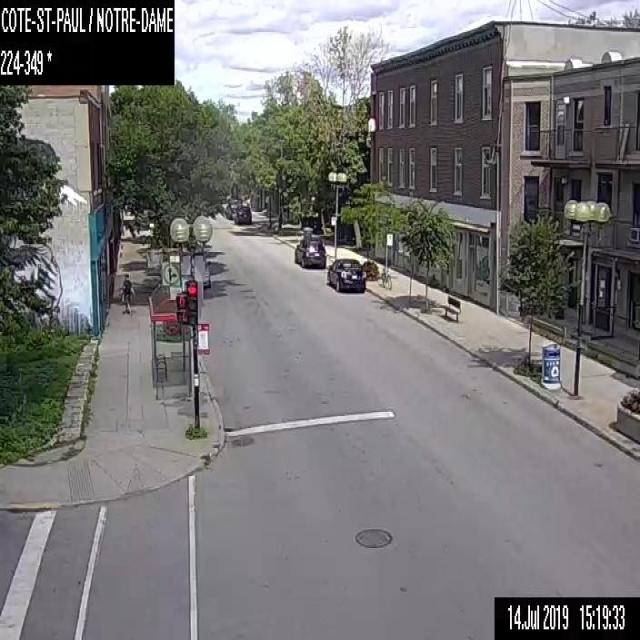pedestrian: (120, 272, 134, 312)
vehicle: (326, 257, 365, 292), (293, 234, 326, 268), (234, 204, 251, 224), (224, 202, 236, 220)
